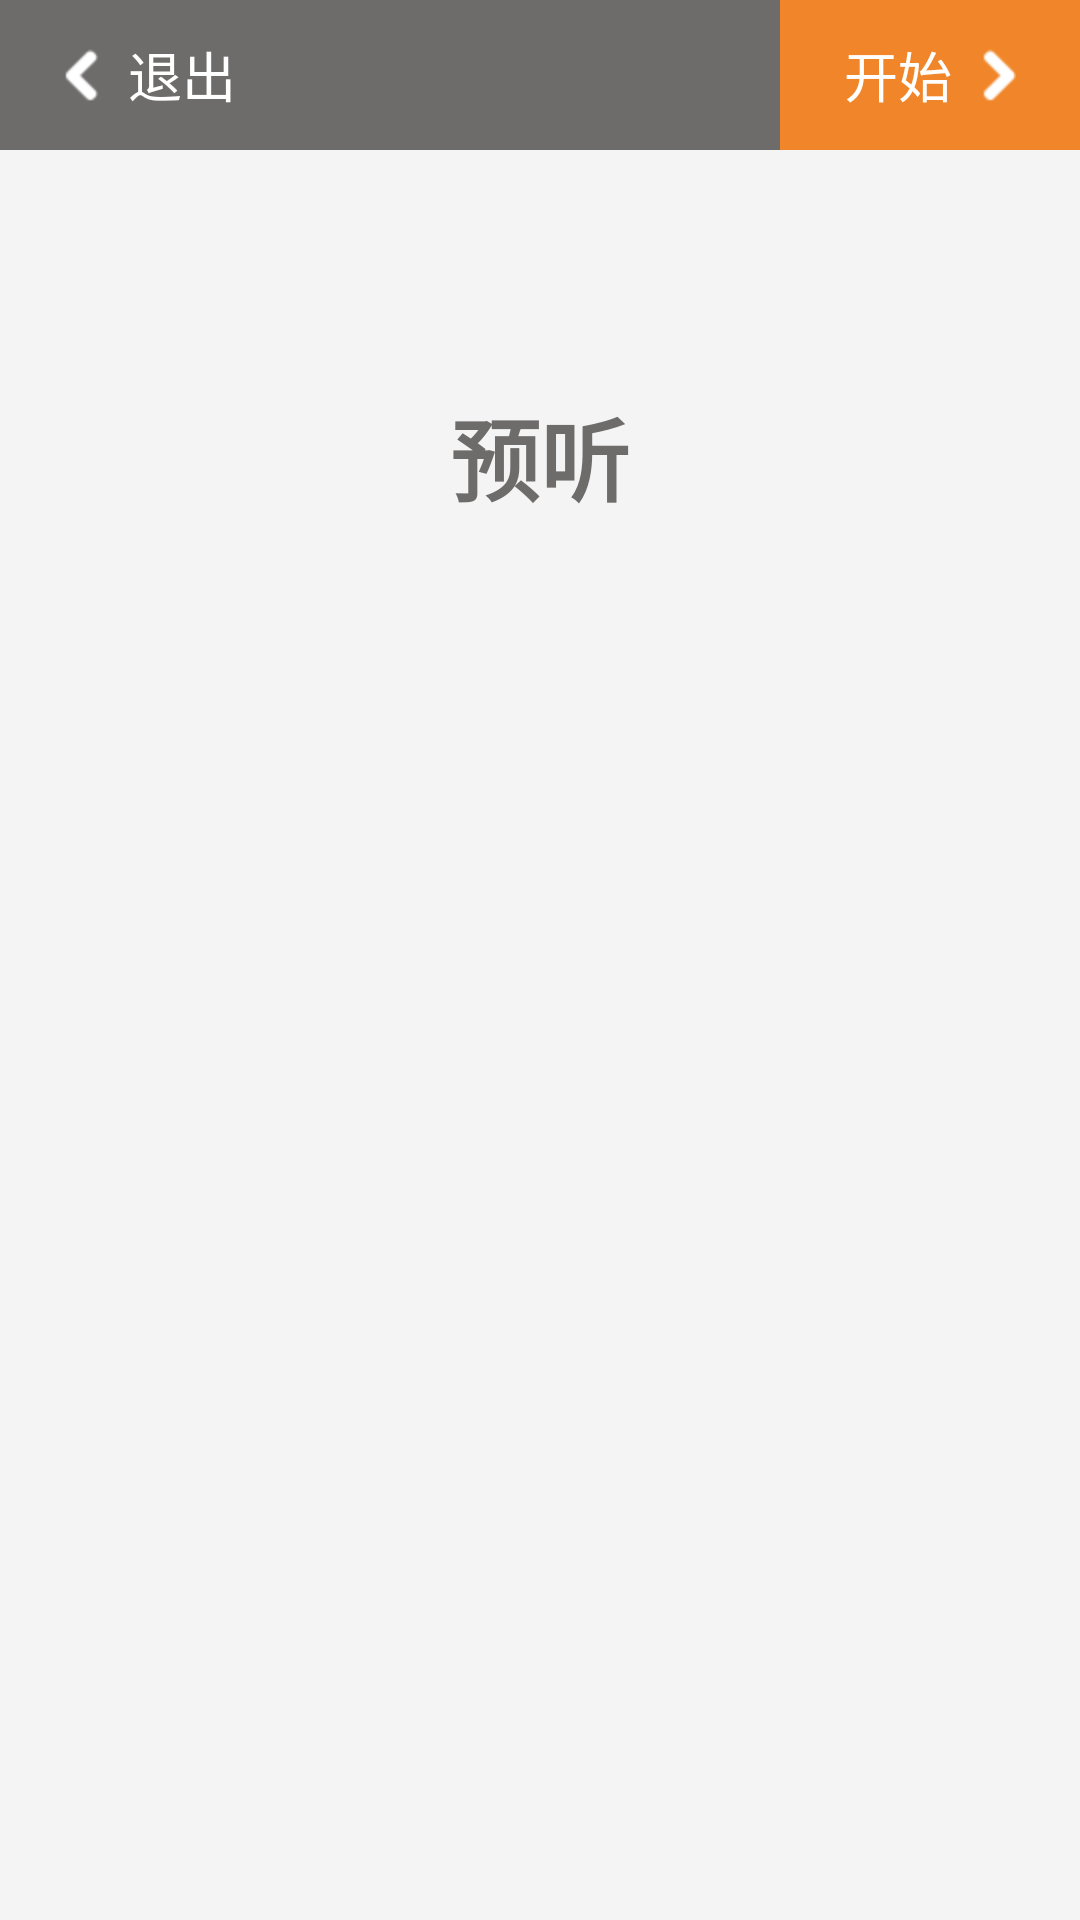

Icons on this 1080*1920 Android screen, each with the point to tap as (x=x, y=y):
left: (x=81, y=75)
right: (x=999, y=75)
